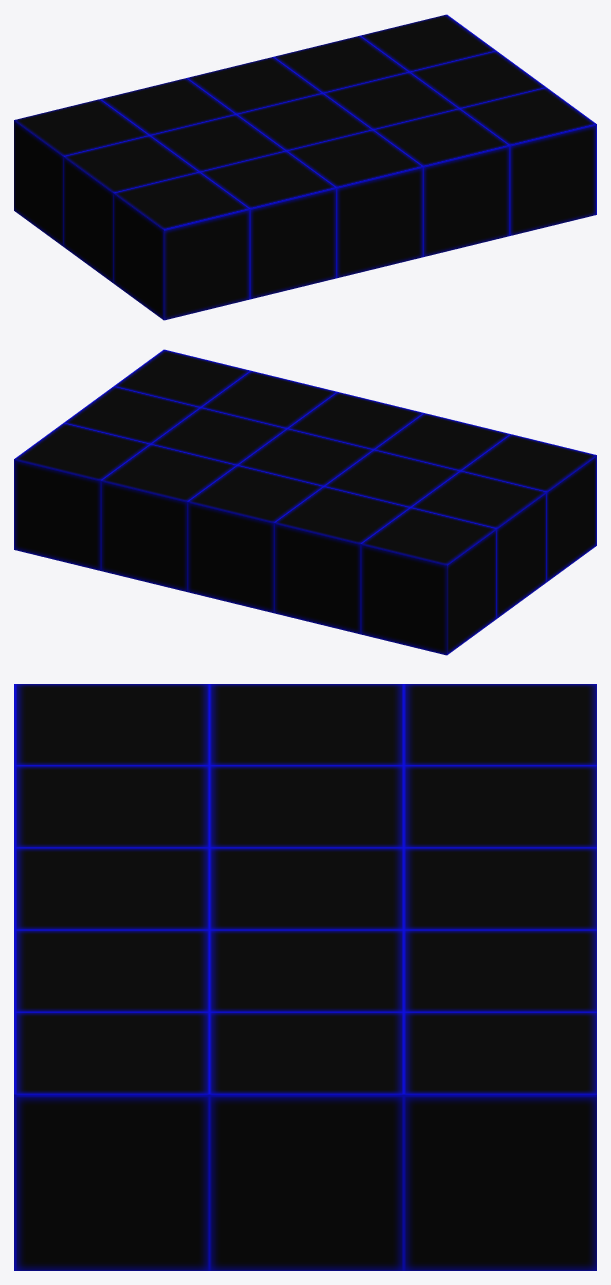
3 renders of one model, top to bottom at view 1: azimuth 30°, elevation 25°; view 2: azimuth 150°, elevation 25°; view 3: azimuth 270°, elevation 25°, orthographic. The views are drawn at different scales.
Visible parts, largest first — view 1: Box001; view 2: Box001; view 3: Box001.
Boxes of the visible parts, bbox=[...] form: Box001: bbox=[14, 14, 596, 320]; Box001: bbox=[14, 349, 596, 655]; Box001: bbox=[14, 684, 596, 1270].
Bounding box in the file's own units: 5 × 1 × 3.
1 material, 1 textured.
